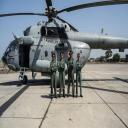helicopter: (2, 2, 128, 88)
